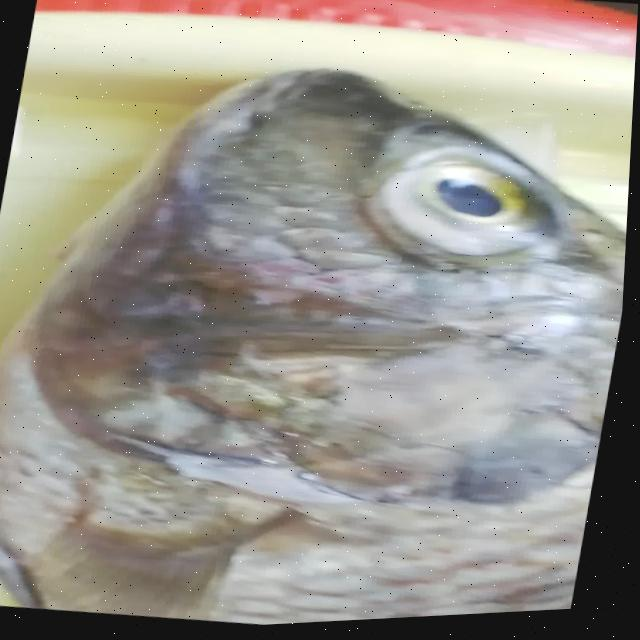Fresh: (366, 136, 570, 280)
